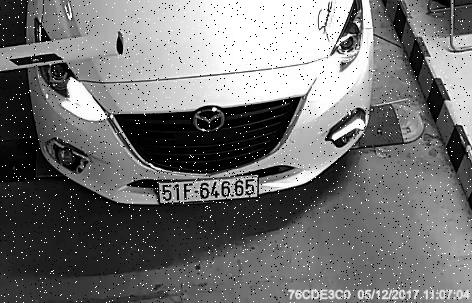License-plate: (155, 170, 274, 210)
